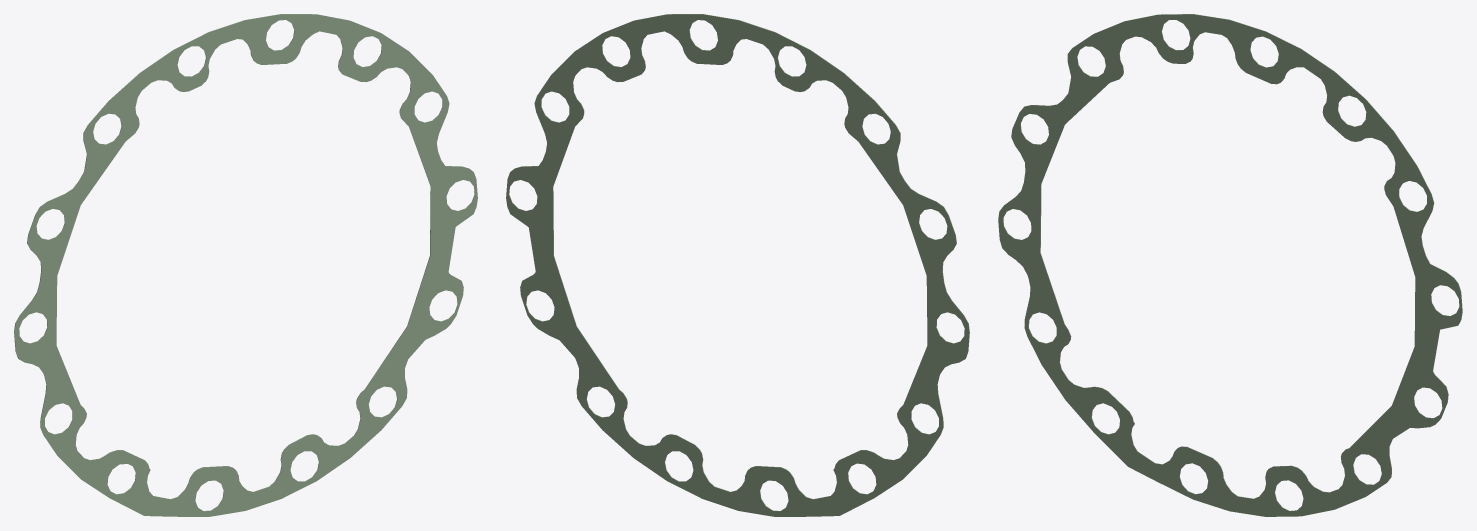
The model's file is mifengpian_hou.FBX.
3 renders of one model, left to right at view 1: azimuth 30°, elevation 25°; view 2: azimuth 150°, elevation 25°; view 3: azimuth 330°, elevation 25°, orthographic.
Parts seen in each view (by area): view 1: mifengpian_hou; view 2: mifengpian_hou; view 3: mifengpian_hou.
Boxes of the visible parts, bbox=[...] form: mifengpian_hou: bbox=[14, 14, 477, 516]; mifengpian_hou: bbox=[506, 14, 969, 516]; mifengpian_hou: bbox=[998, 14, 1462, 516].
Bounding box in the file's own units: 289 × 292 × 0.3883.
